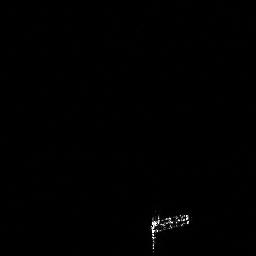ship: (151, 214, 189, 232)
